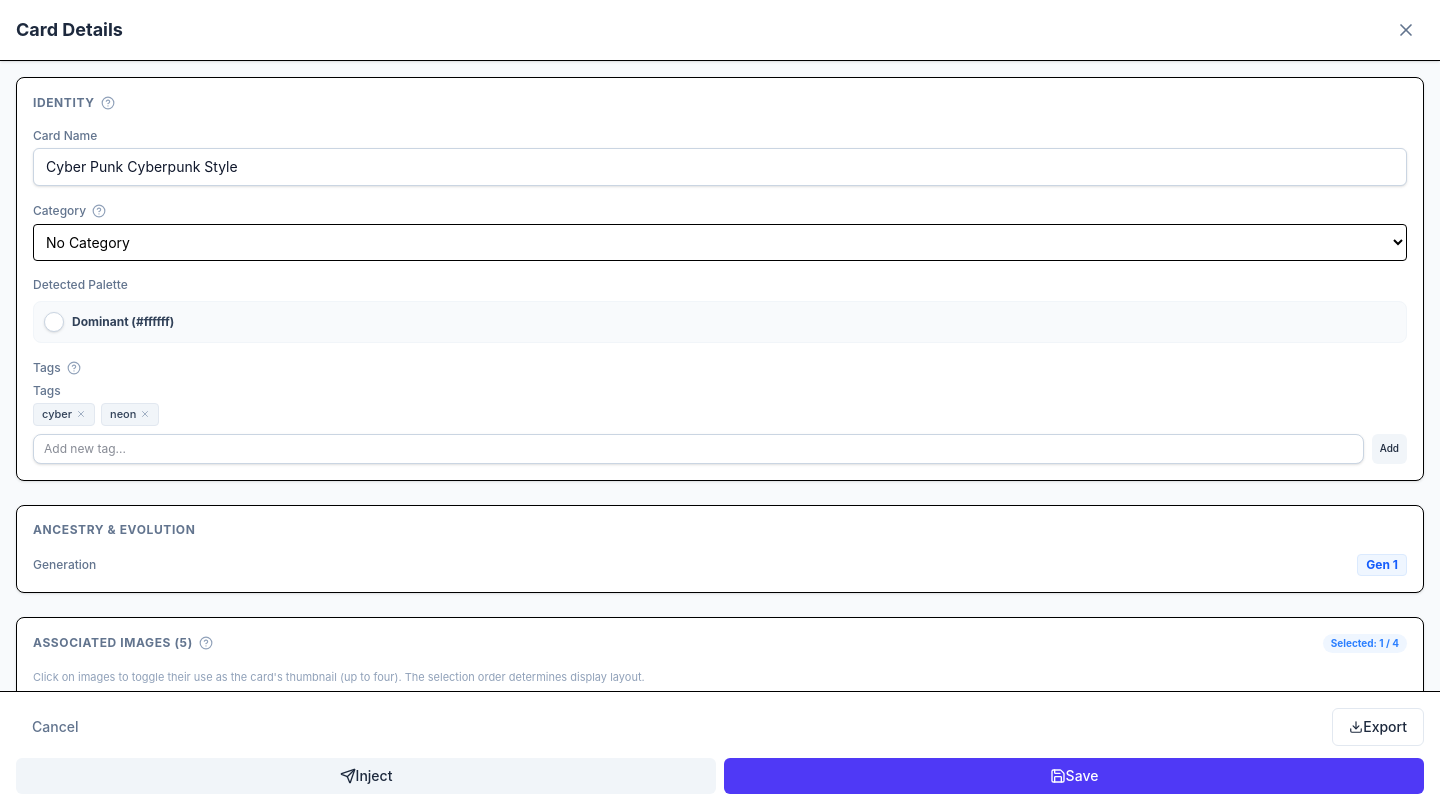
Test: CardDetailView › displays error message if export utility fails
Click the button with test id "export-card-button". click: (1378, 727)
box: [1332,708,1424,746]
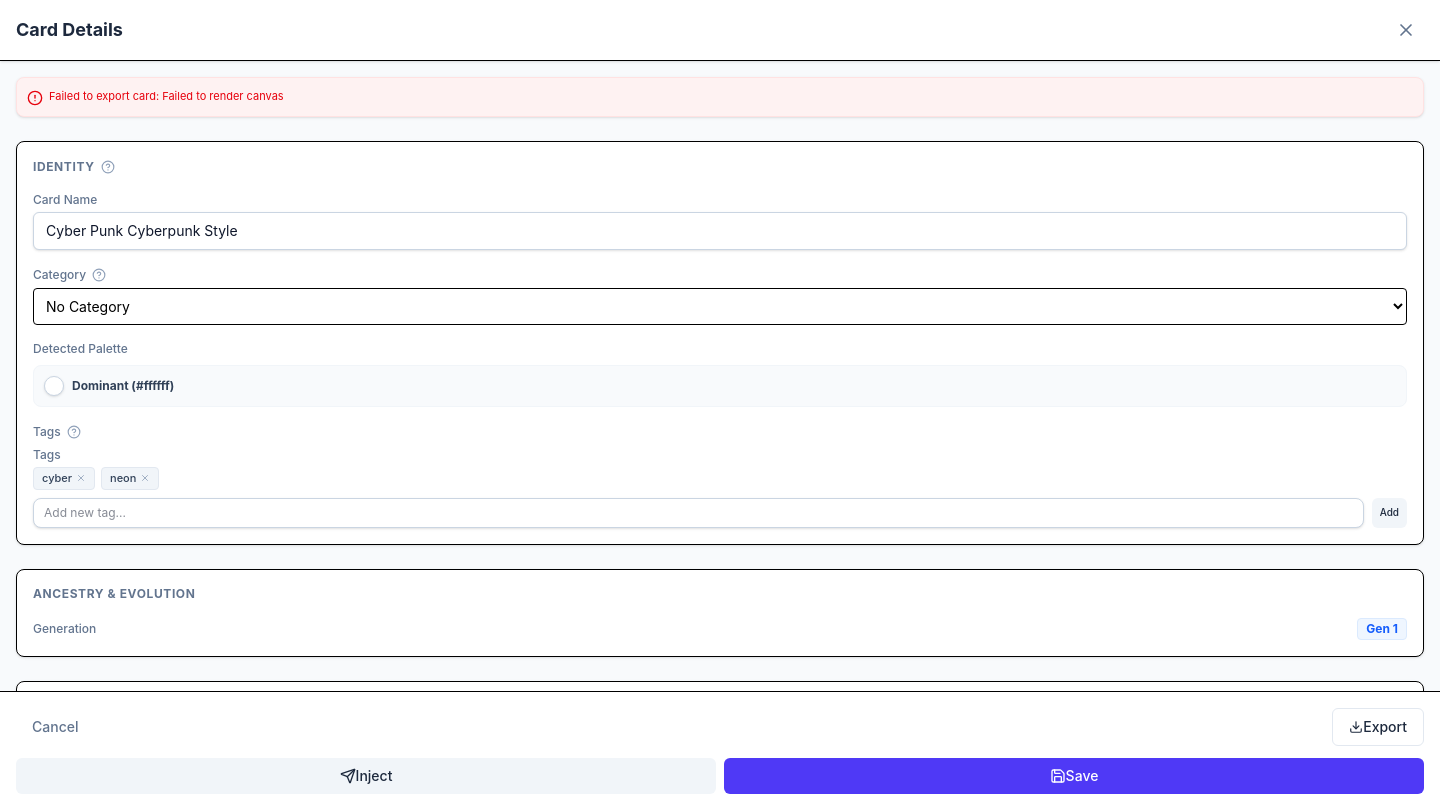
Expected: the text "Failed to export card: Failed to render canvas" is shown, [49,88,284,104]
